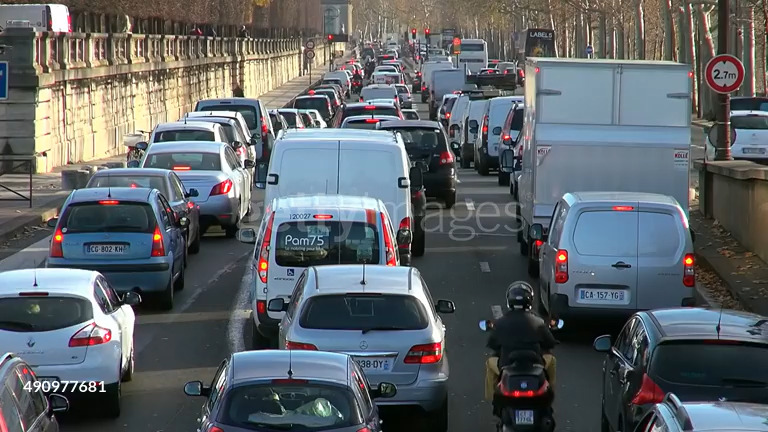car_number: (578, 289, 628, 303), (86, 244, 126, 254)
